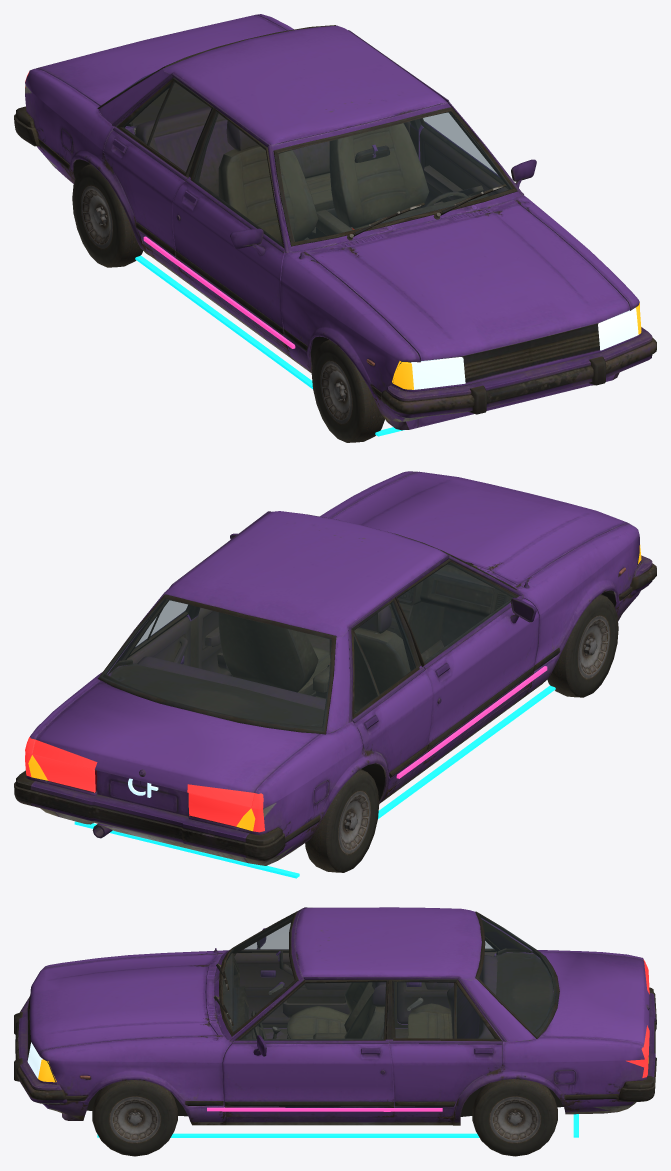
File: car-high.glb
3 views of the same model, one above another, from view 1: azimuth 30°, elevation 25°; view 2: azimuth 150°, elevation 25°; view 3: azimuth 270°, elevation 25° (orthographic). The views are drawn at different scales.
Visible parts, largest first — view 1: body, glass, cockpit_static, wheel_FR, wheel_RR, glass_rear, neon_body, neon_side; view 2: body, glass_rear, cockpit_static, glass, wheel_RR, wheel_FR, neon_body, neon_side; view 3: body, glass, glass_rear, cockpit_static, wheel_RL, wheel_FL, neon_body, neon_side.
Part boxes in pixels (left/top/right/bottom): body: left=14, top=14, right=656, bottom=430; glass: left=192, top=111, right=511, bottom=246; cockpit_static: left=218, top=123, right=488, bottom=243; wheel_FR: left=311, top=339, right=384, bottom=442; wheel_RR: left=72, top=164, right=142, bottom=267; glass_rear: left=110, top=72, right=210, bottom=172; neon_body: left=135, top=255, right=404, bottom=436; neon_side: left=143, top=236, right=295, bottom=348; body: left=14, top=471, right=656, bottom=865; glass_rear: left=100, top=599, right=416, bottom=731; cockpit_static: left=218, top=563, right=512, bottom=712; glass: left=398, top=562, right=515, bottom=663; wheel_RR: left=305, top=769, right=379, bottom=872; wheel_FR: left=547, top=594, right=618, bottom=697; neon_body: left=74, top=685, right=555, bottom=878; neon_side: left=396, top=666, right=547, bottom=778; body: left=14, top=907, right=656, bottom=1125; glass: left=223, top=914, right=385, bottom=1040; glass_rear: left=394, top=915, right=556, bottom=1038; cockpit_static: left=213, top=953, right=452, bottom=1039; wheel_RL: left=472, top=1079, right=557, bottom=1156; wheel_FL: left=92, top=1080, right=177, bottom=1156; neon_body: left=97, top=1114, right=578, bottom=1137; neon_side: left=207, top=1107, right=442, bottom=1111.
Size of the model in its own units: 2.62 by 1.79 by 6.01.
13 materials, 3 textured.
